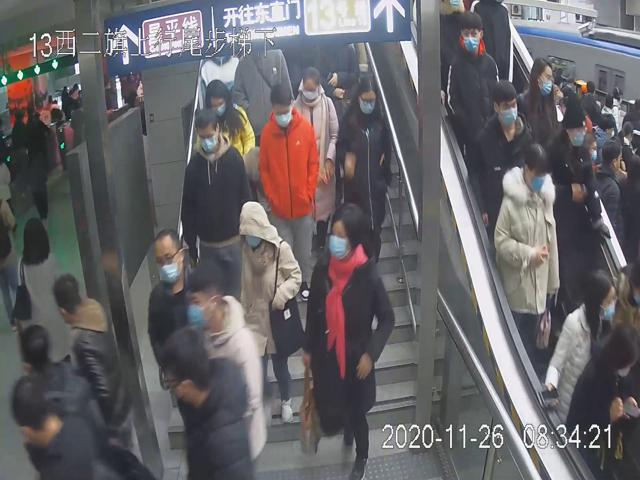person: (303, 199, 395, 473), (492, 138, 562, 370), (234, 198, 301, 431), (256, 80, 322, 306), (176, 108, 255, 283), (334, 73, 395, 270), (288, 64, 341, 260), (472, 79, 537, 230), (445, 11, 498, 151), (194, 78, 256, 157)
